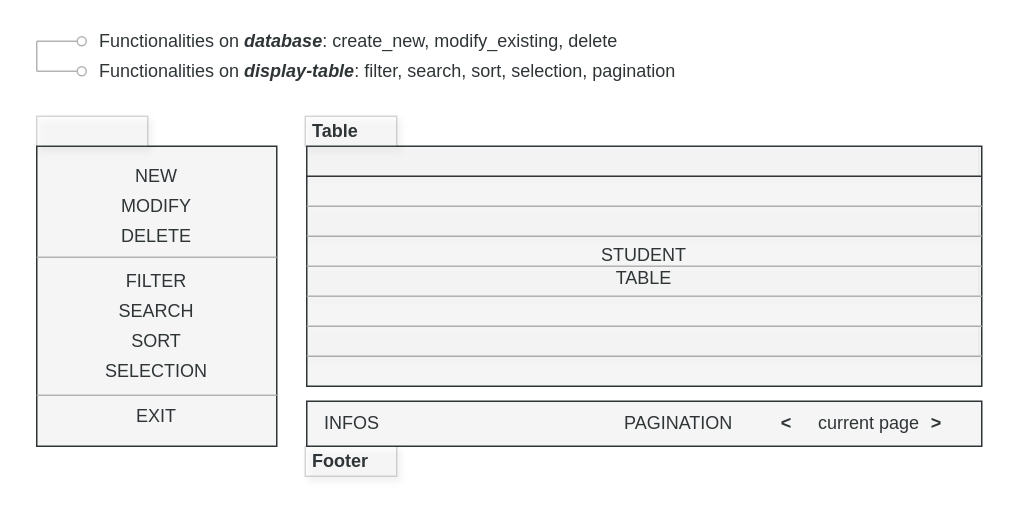
Some shapes in this 1014 by 513 pixel diagram are drawn without their labels. Here are the shapes that lost their labels. From the top down, the centre of each, then its label:
At (x=93, y=133): "Main menu".
At (x=643, y=163): "CAPTURE".
